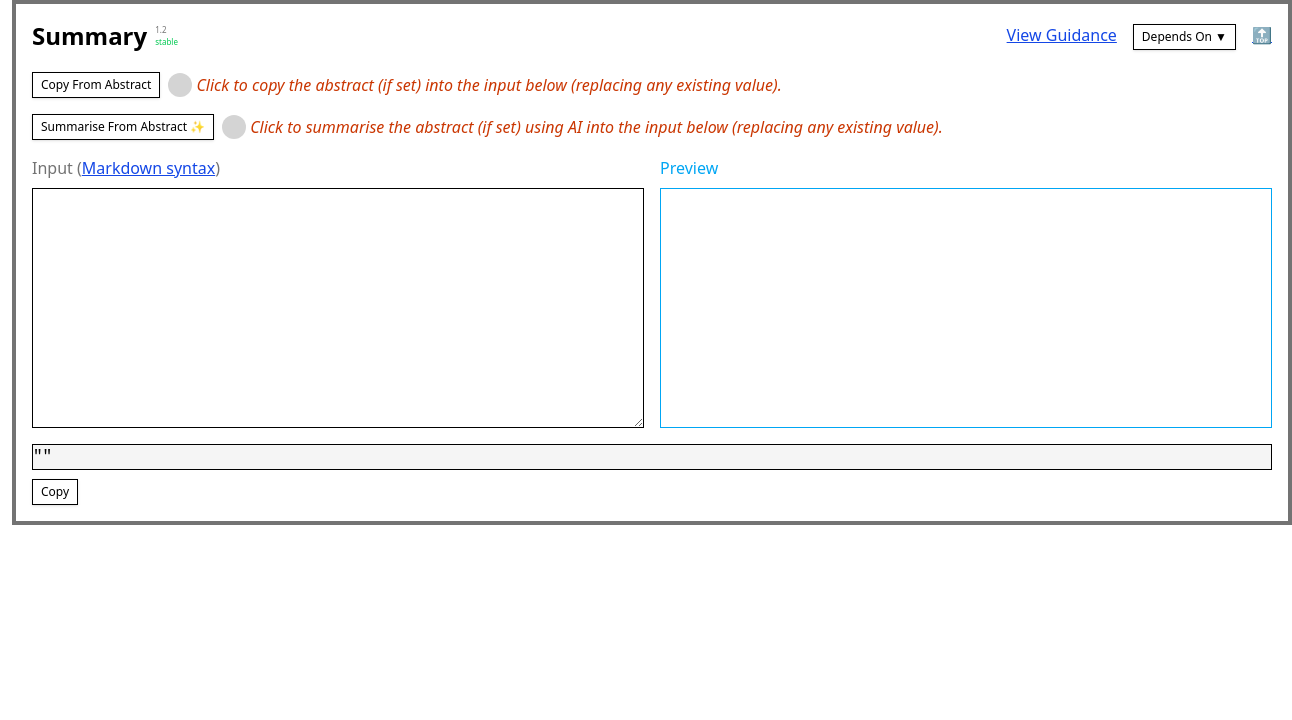
Summary › summarise from abstract button works
What coordinates should you click on to do the following:
click the button with id "summary-use-abstract-ai"
I would click on:
 (123, 127)
Its box is [32, 114, 214, 140].
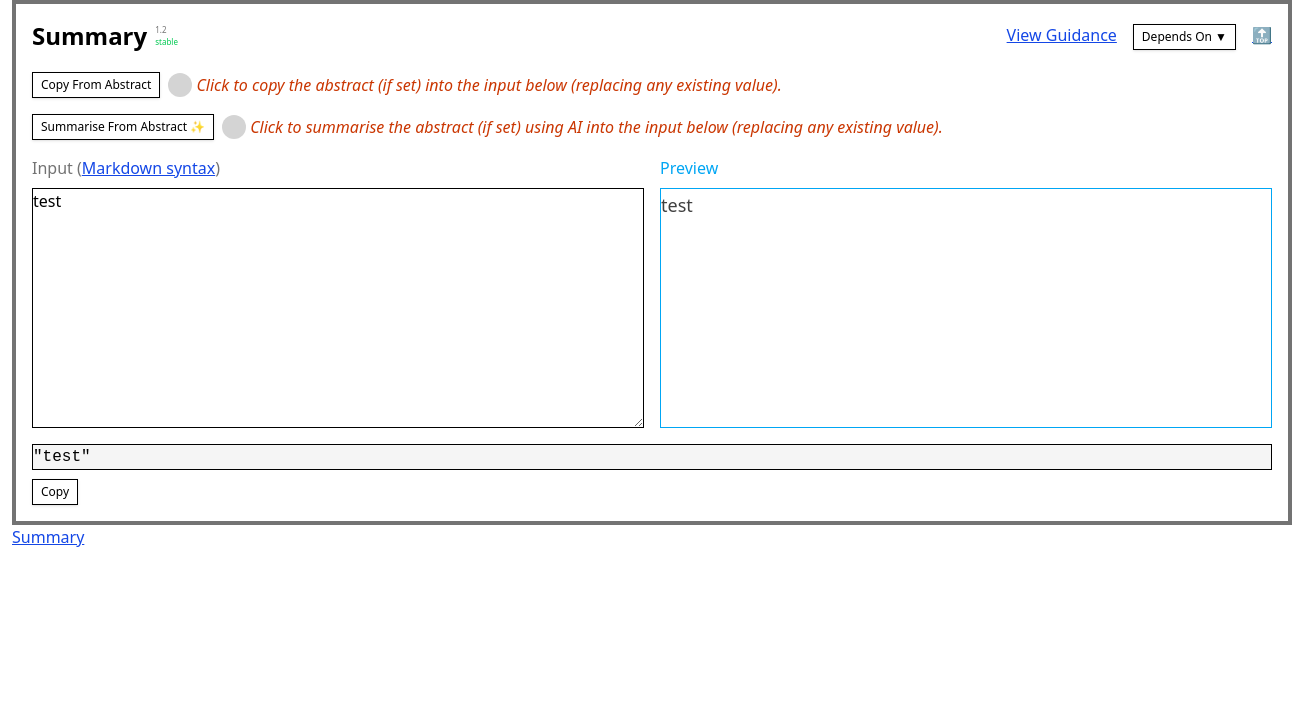
Expected: the text box holds "test", [32, 188, 644, 428]
